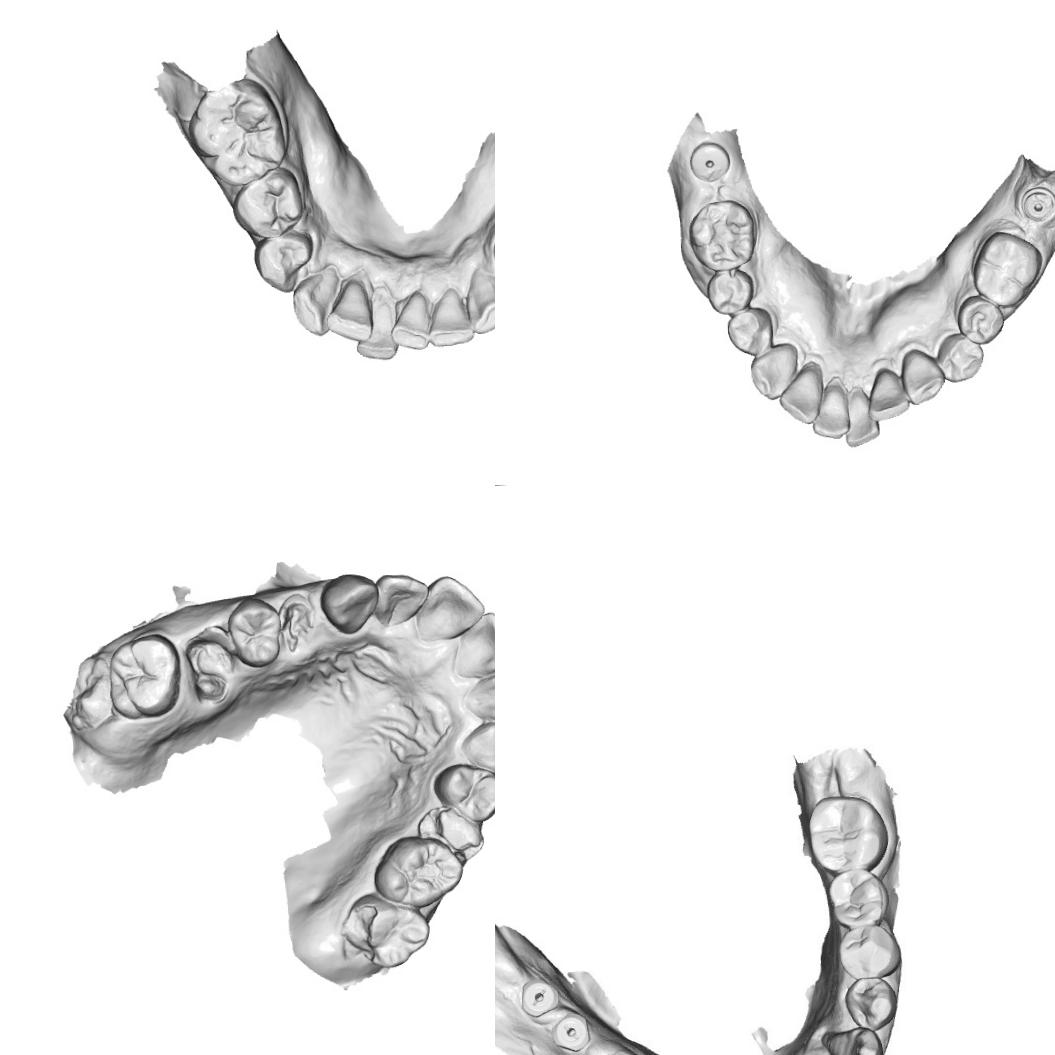canine: (317, 570, 380, 637), (290, 270, 340, 340), (748, 340, 800, 403), (899, 346, 948, 408), (462, 274, 495, 337), (458, 720, 495, 775), (819, 1027, 882, 1055)
implant: (686, 139, 732, 184), (1018, 185, 1055, 224)
implant_minus: (550, 1013, 592, 1055), (517, 978, 558, 1016)
incisor: (416, 572, 486, 642), (450, 609, 495, 681), (775, 364, 827, 426), (374, 572, 429, 628), (354, 300, 400, 364), (426, 294, 475, 350), (865, 366, 910, 423), (390, 295, 432, 353), (810, 382, 851, 441), (325, 287, 370, 340), (843, 388, 881, 450), (465, 668, 495, 722)
molar: (187, 79, 287, 189), (338, 890, 432, 970), (105, 632, 184, 722), (372, 834, 465, 910), (806, 790, 888, 876), (968, 228, 1044, 310), (686, 198, 758, 274)
premolar: (232, 166, 307, 241), (227, 596, 285, 670), (432, 760, 495, 824), (254, 229, 316, 293), (828, 868, 890, 930), (837, 926, 902, 978), (841, 975, 899, 1033), (724, 305, 776, 358), (954, 294, 1006, 346), (934, 332, 985, 384), (704, 268, 756, 316)
